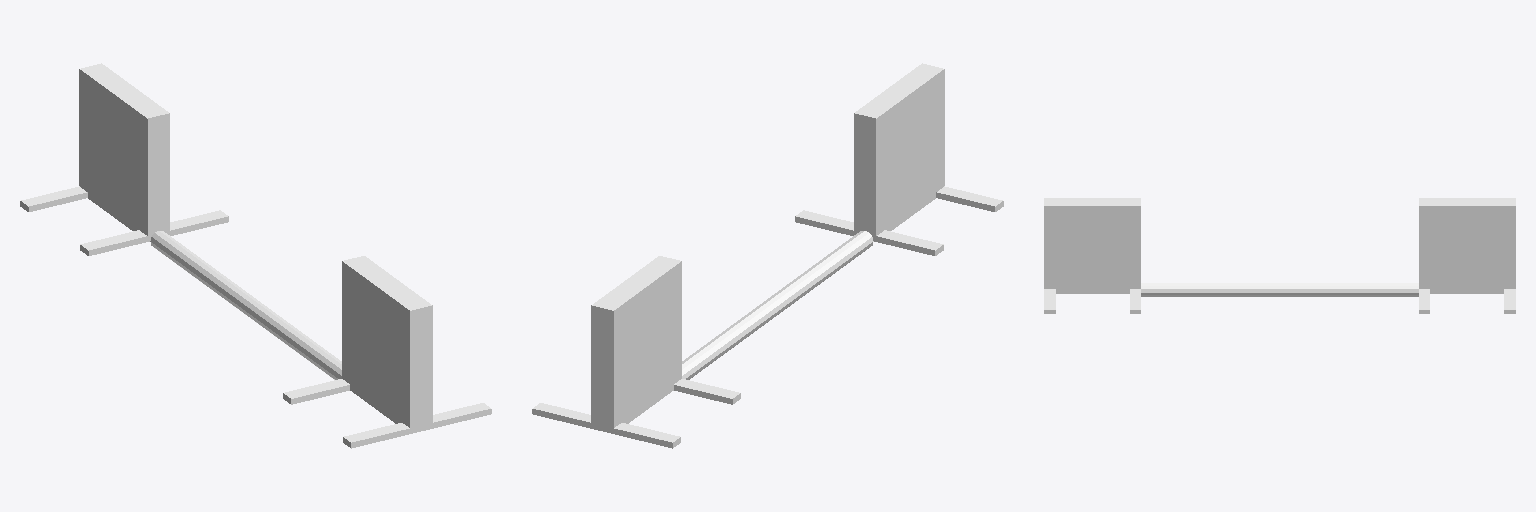
URDF robot description (bar_jump):
<?xml version="1.0" encoding="utf-8"?>
<!-- This URDF was automatically created by SolidWorks to URDF Exporter! Originally created by [author] ([email redacted]) 
     Commit Version: 1.6.0-4-g7f85cfe  Build Version: 1.6.7995.38578
     For more information, please see http://wiki.ros.org/sw_urdf_exporter -->
<robot
  name="bar_jump">
  <link
    name="base_link">
    <inertial>
      <origin
        xyz="0 0 0"
        rpy="0 0 0" />
      <mass
        value="30.0907724150635" />
      <inertia
        ixx="0.891446821498394"
        ixy="-8.42898198373399E-17"
        ixz="-2.44470956013031E-17"
        iyy="0.504341680113713"
        iyz="0.000367159013357601"
        izz="0.501583443611012" />
    </inertial>
    <visual>
      <origin
        xyz="0 0 0"
        rpy="0 0 0" />
      <geometry>
        <mesh
          filename="./meshes/base_link.STL" />
      </geometry>
      <material
        name="">
        <color
          rgba="1 1 1 1" />
      </material>
    </visual>
    <collision>
      <origin
        xyz="0 0 0"
        rpy="1.57 0 0" />
      <geometry>
        <mesh
          filename="./meshes/base_link.STL" />
      </geometry>
    </collision>
  </link>
  <link
    name="link0">
    <inertial>
      <origin
        xyz="0 0 0"
        rpy="0 0 0" />
      <mass
        value="3.39292006587698" />
      <inertia
        ixx="0.407913814920059"
        ixy="5.50299865094596E-35"
        ixz="-5.8310660349893E-36"
        iyy="0.00152681402964464"
        iyz="-1.18020776548183E-34"
        izz="0.407913814920059" />
    </inertial>
    <visual>
      <origin
        xyz="0 0 0"
        rpy="0 0 0" />
      <geometry>
        <mesh
          filename="./meshes/link0.STL" />
      </geometry>
      <material
        name="">
        <color
          rgba="1 1 1 1" />
      </material>
    </visual>
    <collision>
      <origin
        xyz="0 0 0"
        rpy="1.57 0 0" />
      <geometry>
        <mesh
          filename="./meshes/link0.STL" />
      </geometry>
    </collision>
  </link>
  <joint
    name="joint0"
    type="prismatic">
    <origin
      xyz="0 0 0"
      rpy="0 0 0" />
    <parent
      link="base_link" />
    <child
      link="link0" />
    <axis
      xyz="0 -1 0" />
    <limit effort="1000.0" lower="-4" upper="4" velocity="100"/>
  </joint>
</robot>

--- What the picture shows (computed from the rendered views, not written in the file) ---
The picture shows the robot from 3 angles, left to right: view 1: azimuth 30°, elevation 25°; view 2: azimuth 150°, elevation 25°; view 3: azimuth 270°, elevation 25°; orthographic projection.
Robot: bar_jump — 2 links, 1 joints (1 prismatic); root link base_link; default pose: all joints at 0.
Visible links, largest first — view 1: base_link, link0; view 2: base_link, link0; view 3: base_link, link0.
Link boxes in pixels (bbox=[...]): base_link: bbox=[20, 63, 491, 448]; link0: bbox=[150, 231, 341, 379]; base_link: bbox=[532, 63, 1003, 448]; link0: bbox=[682, 231, 873, 379]; base_link: bbox=[1044, 198, 1515, 313]; link0: bbox=[1141, 283, 1418, 296].
Size in the robot's own frame: 0.5 by 2.04 by 0.45 metres.
2 mesh visuals loaded from 2 distinct referenced files (2 binary STL).
